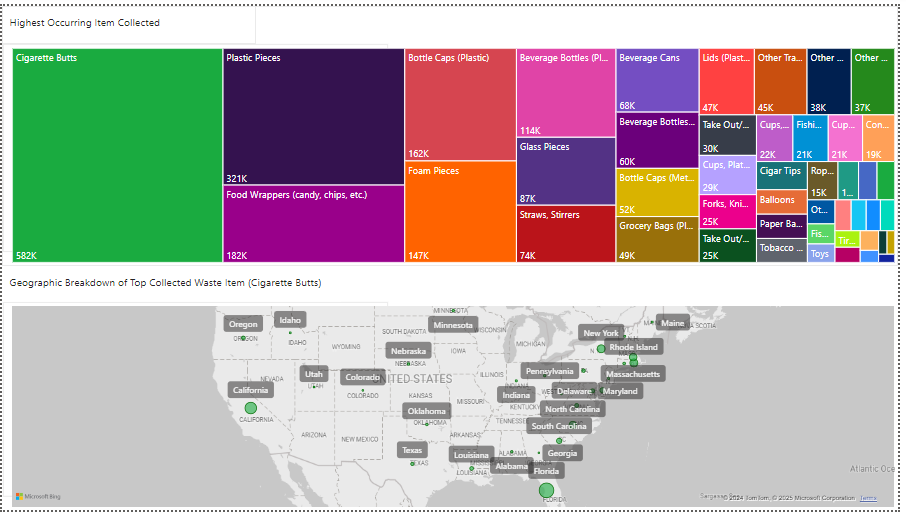

What the dashboard file says about the page in this screenshot:
{"tool":"powerbi","page":{"name":"Page 2","canvas":[1280,720],"ordinal":1},"visuals":[{"type":"group","id":"g1","title":"Highest Occurring item","box":[0,0,1280,371.7],"z":0},{"type":"textbox","box":[1,54.7,549.6,297.2],"z":0,"group":"g1"},{"type":"textbox","box":[1,423.1,549.6,278.4],"z":0,"group":"g2"},{"type":"treemap","fields":{"Values":["Sum(Table11.6-Pack Holders)","Sum(Table11.Appliances (refrigerators, washers, etc.))","Sum(Table11.Balloons)","Sum(Table11.Beverage Bottles (Glass))","Sum(Table11.Beverage Bottles (Plastic))","Sum(Table11.Beverage Cans)","Sum(Table11.Bottle Caps (Metal))","Sum(Table11.Bottle Caps (Plastic))","Sum(Table11.Cigar Tips)","Sum(Table11.Cigarette Butts)","Sum(Table11.Cigarette Lighters)","Sum(Table11.Condoms)"]},"box":[10,56.1,1270,315.6],"z":1000,"group":"g1"},{"type":"group","id":"g2","title":"Geographic Breakdown","box":[0,371.4,1280,348.6],"z":1000},{"type":"map","fields":{"Size":["Sum(Table11.Cigarette Butts)"],"Category":["Table11.State"]},"box":[10,424.4,1270,295.6],"z":1000,"group":"g2"},{"type":"textbox","box":[0,0,363.2,54],"z":2000,"group":"g1"},{"type":"textbox","box":[0,371.4,484.3,50.8],"z":2000,"group":"g2"}]}

Visuals, with their boxes in screenshot pixels (x1, y1, x2, y2), scaled from the page's 1280x720 canvas onto the 906x516 screenshot:
"Highest Occurring item" group: crop(0, 0, 905, 266)
textbox: crop(1, 39, 390, 252)
textbox: crop(1, 303, 390, 503)
treemap - Sum(Table11.6-Pack Holders) x Sum(Table11.Appliances (refrigerators, washers, etc.)): crop(7, 40, 905, 266)
"Geographic Breakdown" group: crop(0, 266, 905, 515)
map - Sum(Table11.Cigarette Butts) x Table11.State: crop(7, 304, 905, 515)
textbox: crop(0, 0, 257, 39)
textbox: crop(0, 266, 343, 303)
